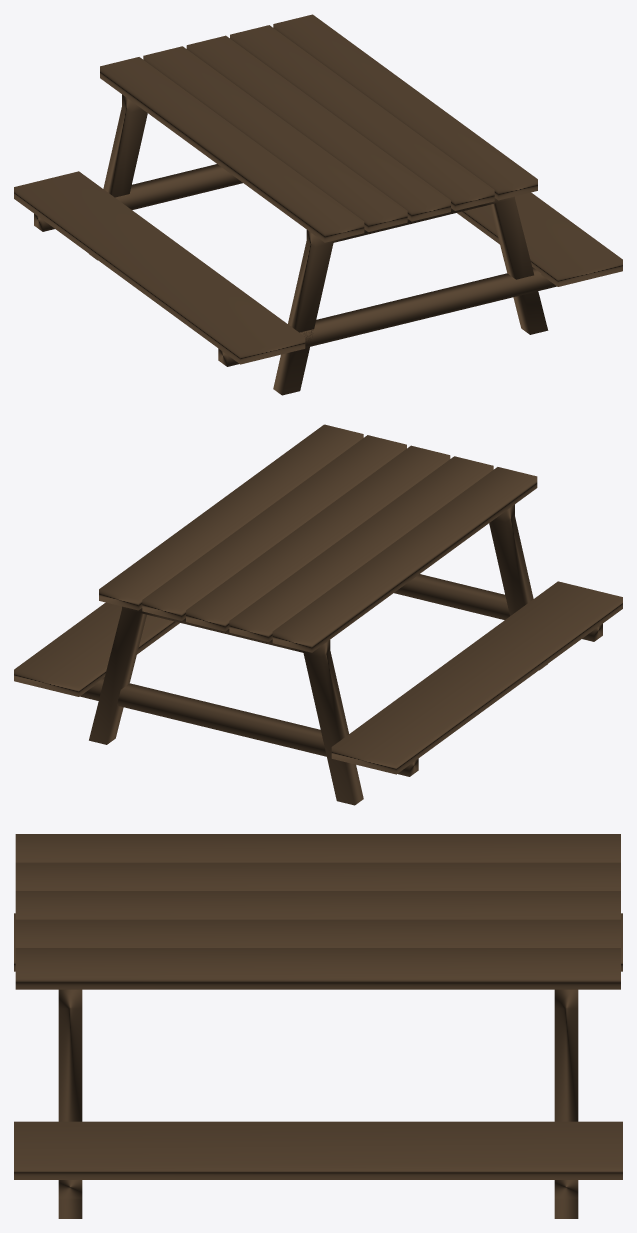
File: TableDePiqueNique.fbx
3 renders of one model, top to bottom at view 1: azimuth 30°, elevation 25°; view 2: azimuth 150°, elevation 25°; view 3: azimuth 270°, elevation 25°, orthographic. The views are drawn at different scales.
Visible parts, largest first — view 1: Planche.002, Planche.003, SupportPlanche.002, SupportPlanche.003; view 2: Planche.002, Planche.003, SupportPlanche.002, SupportPlanche.003; view 3: Planche.002, Planche.003, SupportPlanche.002, SupportPlanche.003.
Boxes of the visible parts, x1,y1,x2,y2 form: Planche.002: [100, 14, 537, 242]; Planche.003: [14, 171, 622, 364]; SupportPlanche.002: [89, 94, 548, 395]; SupportPlanche.003: [34, 164, 556, 366]; Planche.002: [99, 424, 537, 652]; Planche.003: [14, 581, 622, 774]; SupportPlanche.002: [89, 504, 547, 805]; SupportPlanche.003: [80, 574, 602, 776]; Planche.002: [15, 834, 620, 989]; Planche.003: [14, 913, 622, 1179]; SupportPlanche.002: [58, 989, 578, 1218]; SupportPlanche.003: [58, 1180, 578, 1198].
Bounding box in the file's own units: 574 × 243 × 589.
